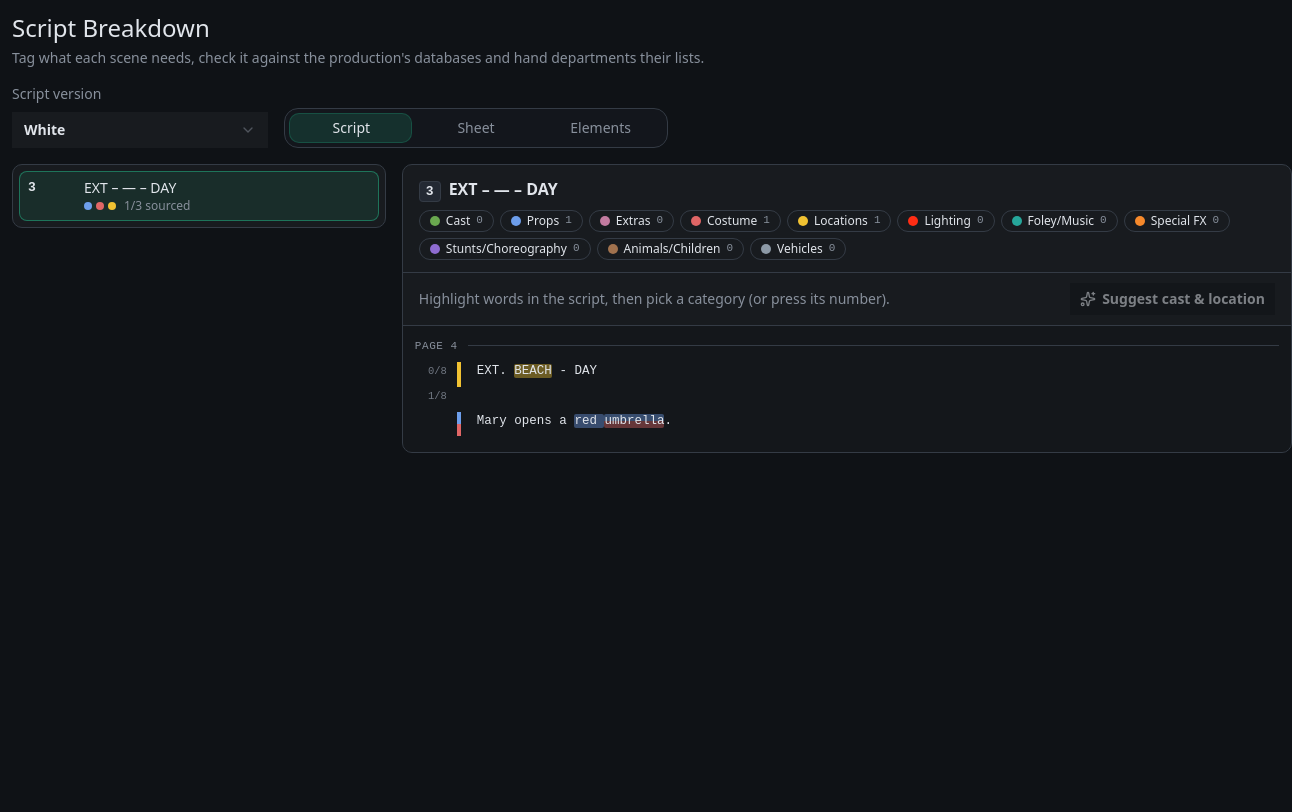
Script Breakdown page › fills the sheet from the scene and production, and matches a location already on Locations
Expected: the element named "Script text" is shown, x1=415 y1=340 x2=672 y2=436
Click the tab "Sheet" at coordinates (476, 128), box x1=414 y1=113 x2=538 y2=143
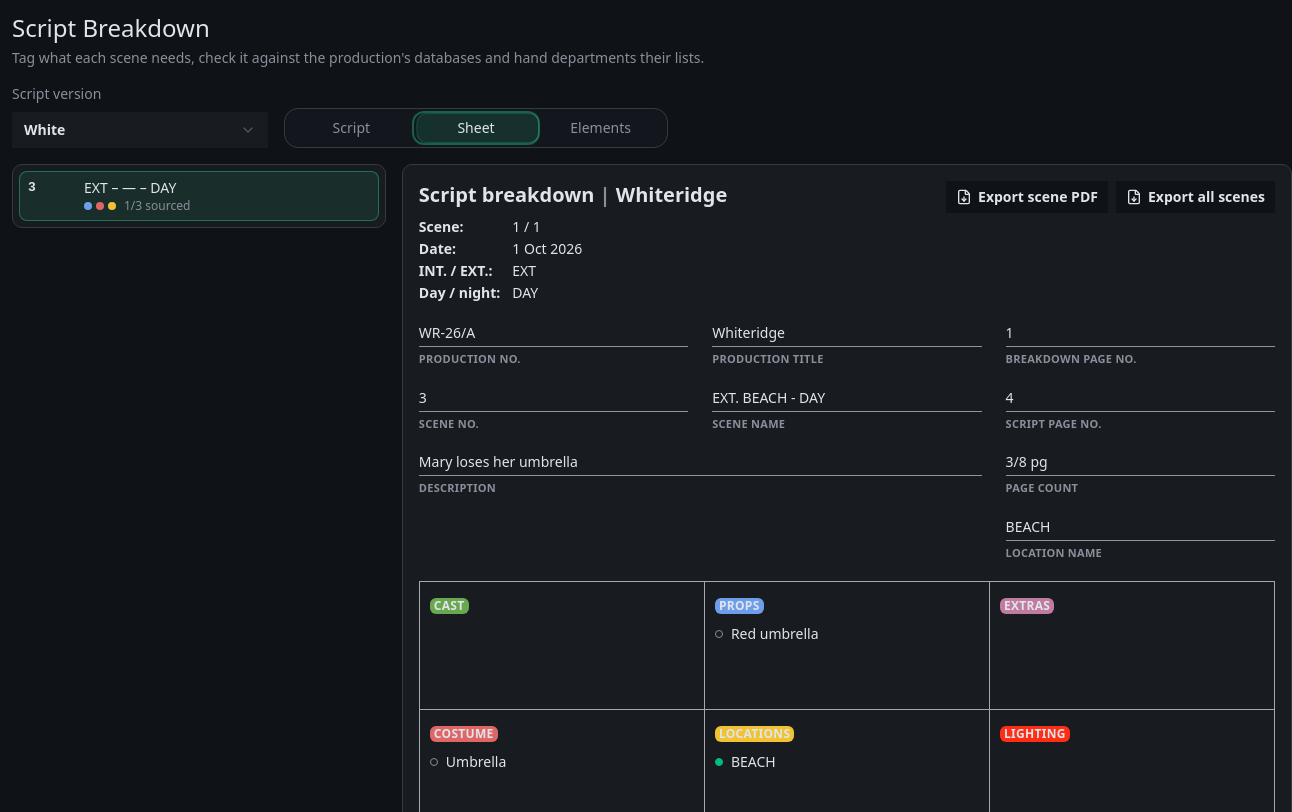
Expected: the element named "Breakdown sheet for scene 3" shows "WR-26/A", x1=419 y1=323 x2=475 y2=342
Expected: the element named "Breakdown sheet for scene 3" shows "Mary loses her umbrella", x1=419 y1=452 x2=578 y2=471
Expected: the element labelled "Locations" shows "BEACH", x1=731 y1=752 x2=776 y2=772
Click the tab "Elements" at coordinates (601, 128), box x1=538 y1=113 x2=663 y2=143
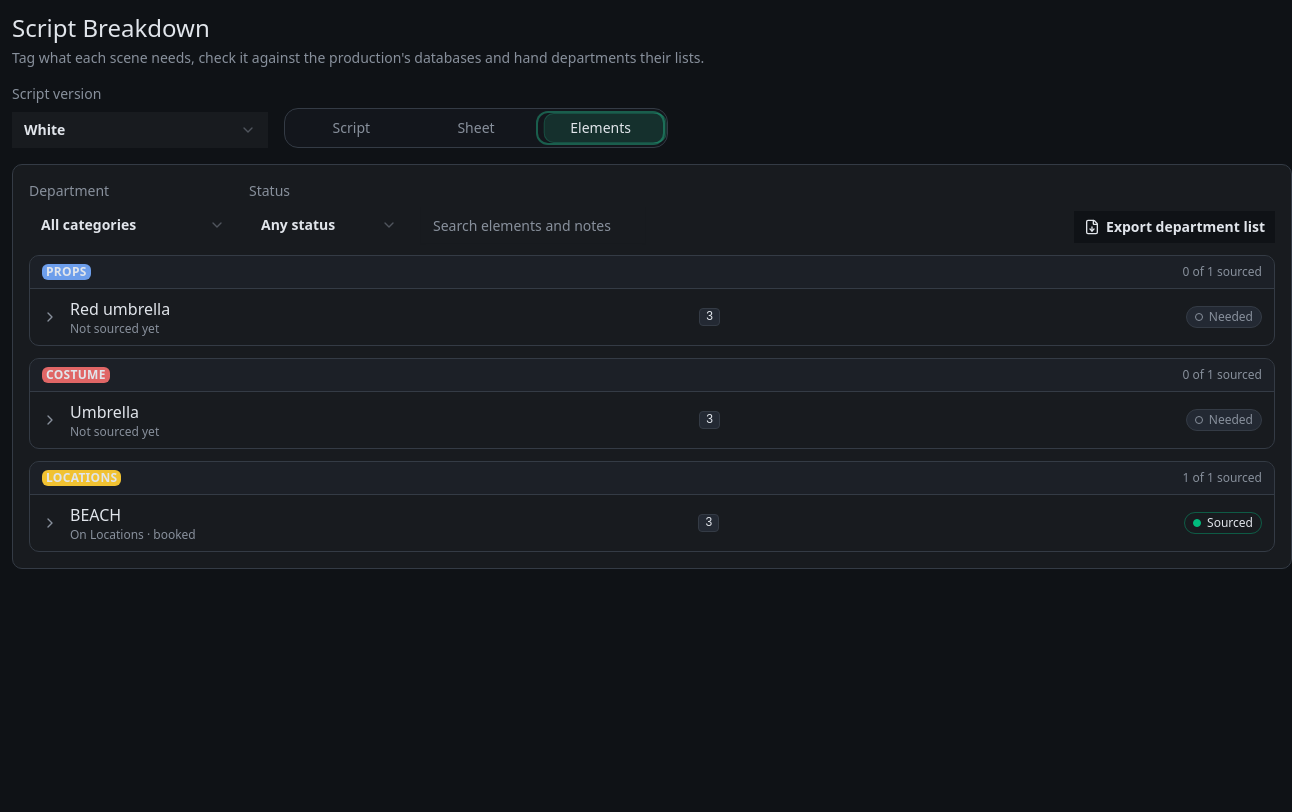
Expected: the element "Locations" shows "On Locations · booked", x1=70 y1=526 x2=196 y2=543
Expected: the element "Locations" shows "sourced", x1=1214 y1=469 x2=1262 y2=486
Expected: the element "Props" shows "Needed", x1=1209 y1=308 x2=1253 y2=325
